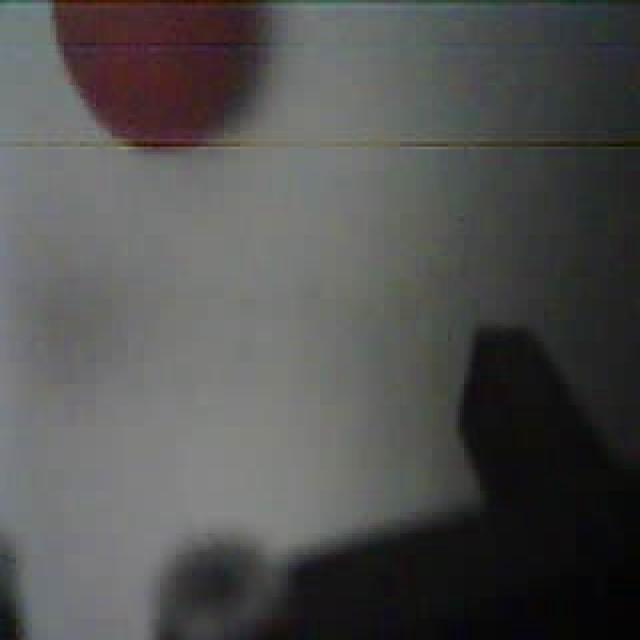red_ball: (48, 0, 272, 152)
